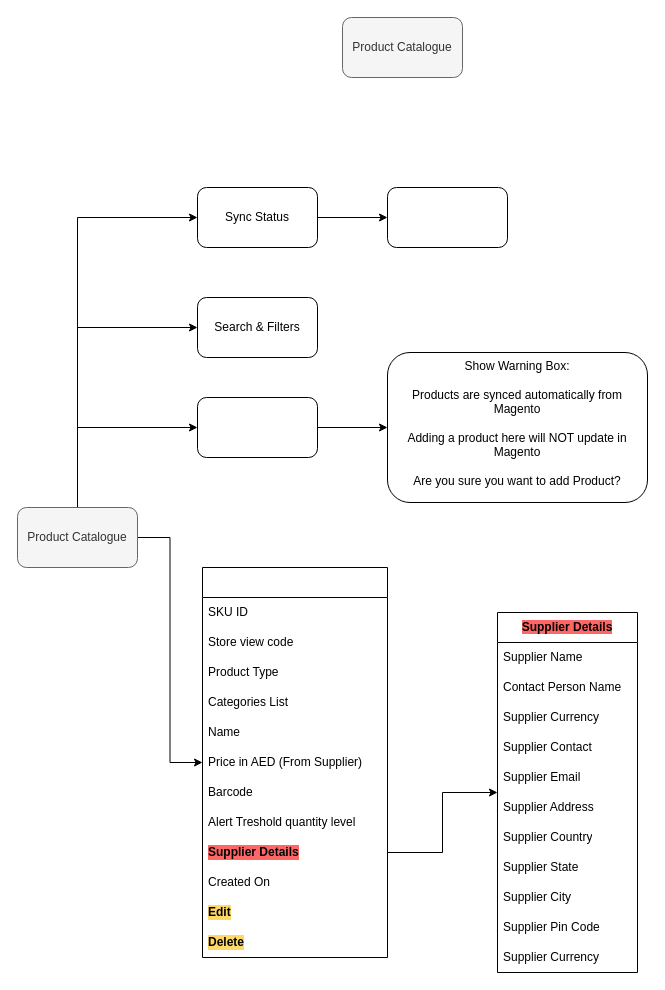
This 665x990 diagram has some shape labels left out. The shapes that lost their labels are listed below. From the top down, each one's box as (x1, y1, x2, y2) in pixels, then its label:
(386, 186, 508, 248): Last Sync Status Sync now button
(196, 396, 318, 458): Add
(202, 566, 388, 958): Table
